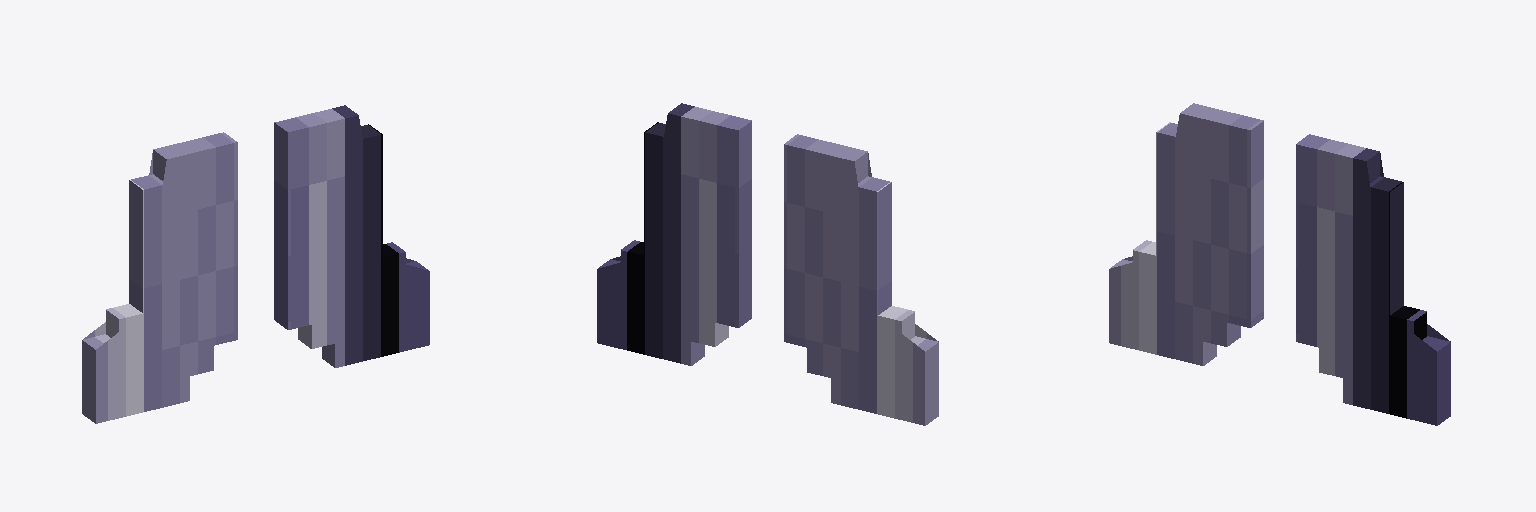
3 renders of one model, left to right at view 1: azimuth 30°, elevation 25°; view 2: azimuth 150°, elevation 25°; view 3: azimuth 330°, elevation 25°, orthographic.
Parts seen in each view (by area): view 1: Diamond-Boots:R(item)_Plane.401; view 2: Diamond-Boots:R(item)_Plane.401; view 3: Diamond-Boots:R(item)_Plane.401.
Boxes of the visible parts, <box> form: Diamond-Boots:R(item)_Plane.401: <box>82,105,429,423</box>; Diamond-Boots:R(item)_Plane.401: <box>597,103,938,425</box>; Diamond-Boots:R(item)_Plane.401: <box>1109,103,1450,425</box>.
Size of the model in its own units: 0.6199 by 0.4423 by 0.0531.
1 materials, 1 textured.